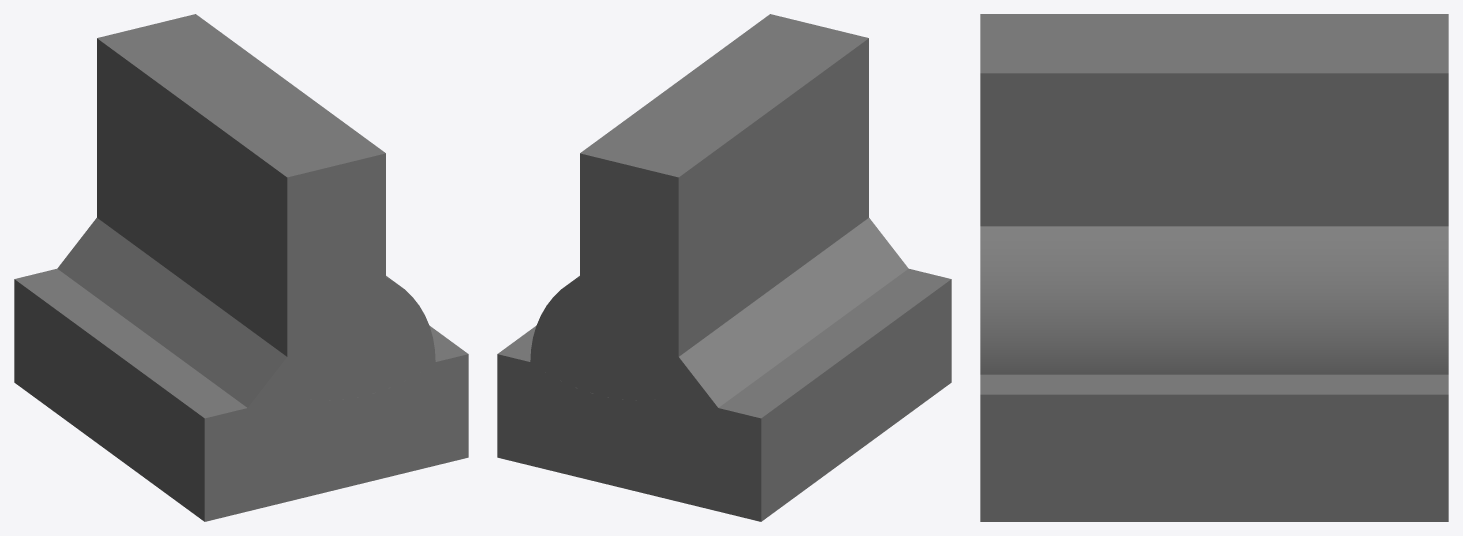
3 renders of one model, left to right at view 1: azimuth 30°, elevation 25°; view 2: azimuth 150°, elevation 25°; view 3: azimuth 270°, elevation 25°, orthographic. The views are drawn at different scales.
Parts seen in each view (by area): view 1: mesh_id4, mesh_id5; view 2: mesh_id4, mesh_id5; view 3: mesh_id4, mesh_id5.
Part boxes in pixels (x1,y1,x2,y2): mesh_id4: (14, 14, 468, 521); mesh_id5: (57, 218, 435, 416); mesh_id4: (497, 14, 951, 521); mesh_id5: (530, 218, 908, 416); mesh_id4: (980, 14, 1448, 521); mesh_id5: (980, 226, 1448, 374).
Size of the model in its own units: 0.4357 by 0.512 by 0.5447.
Materials: 2 (2 with a texture image).
